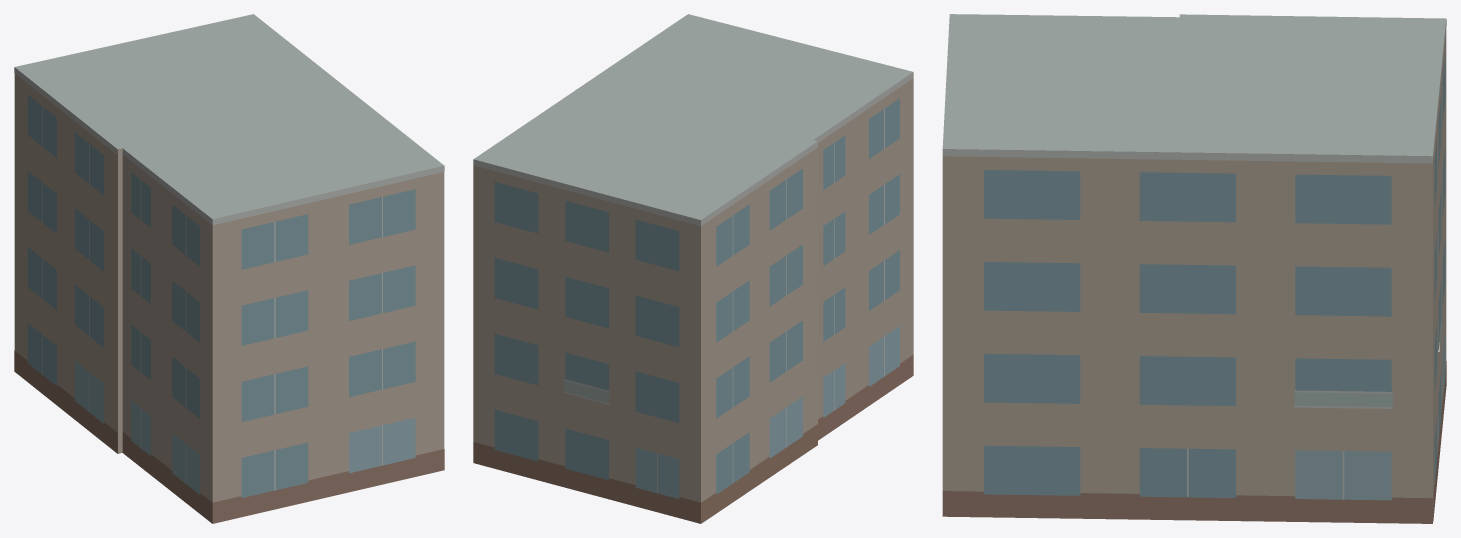
File: survey-upis-32984167.glb
3 renders of one model, left to right at view 1: azimuth 30°, elevation 25°; view 2: azimuth 150°, elevation 25°; view 3: azimuth 270°, elevation 25°, orthographic. The views are drawn at different scales.
Visible parts, largest first — view 1: survey-upis-32984167.tmp; view 2: survey-upis-32984167.tmp; view 3: survey-upis-32984167.tmp.
Part boxes in pixels (left/top/right/bottom): survey-upis-32984167.tmp: left=14, top=14, right=444, bottom=523; survey-upis-32984167.tmp: left=473, top=14, right=913, bottom=523; survey-upis-32984167.tmp: left=942, top=14, right=1446, bottom=523.
Size of the model in its own units: 10.12 by 12.2 by 15.16.
